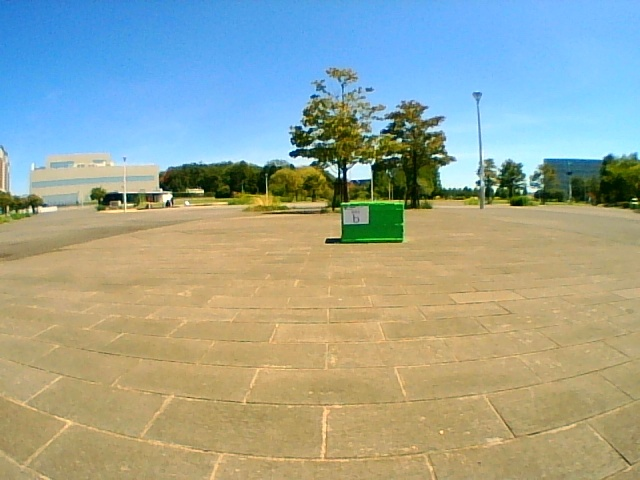green_box: (341, 201, 404, 243)
tag_b: (343, 206, 368, 224)
